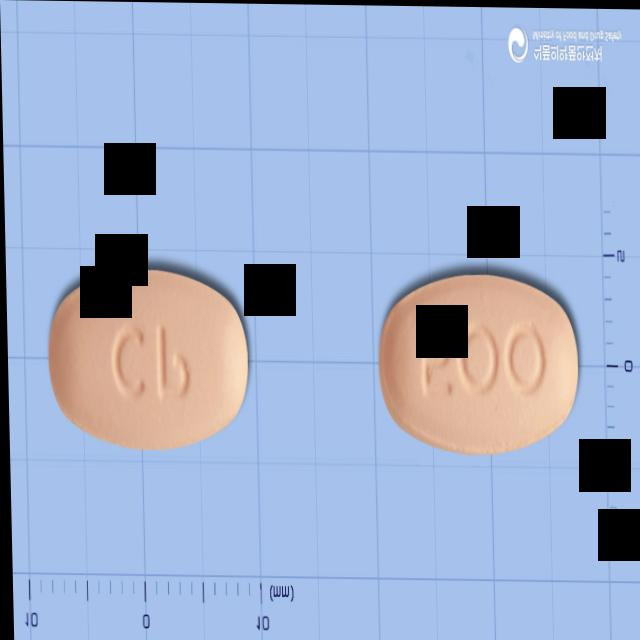Refloxin Tab- -For Export-: (376, 271, 580, 456), (46, 266, 248, 452)
